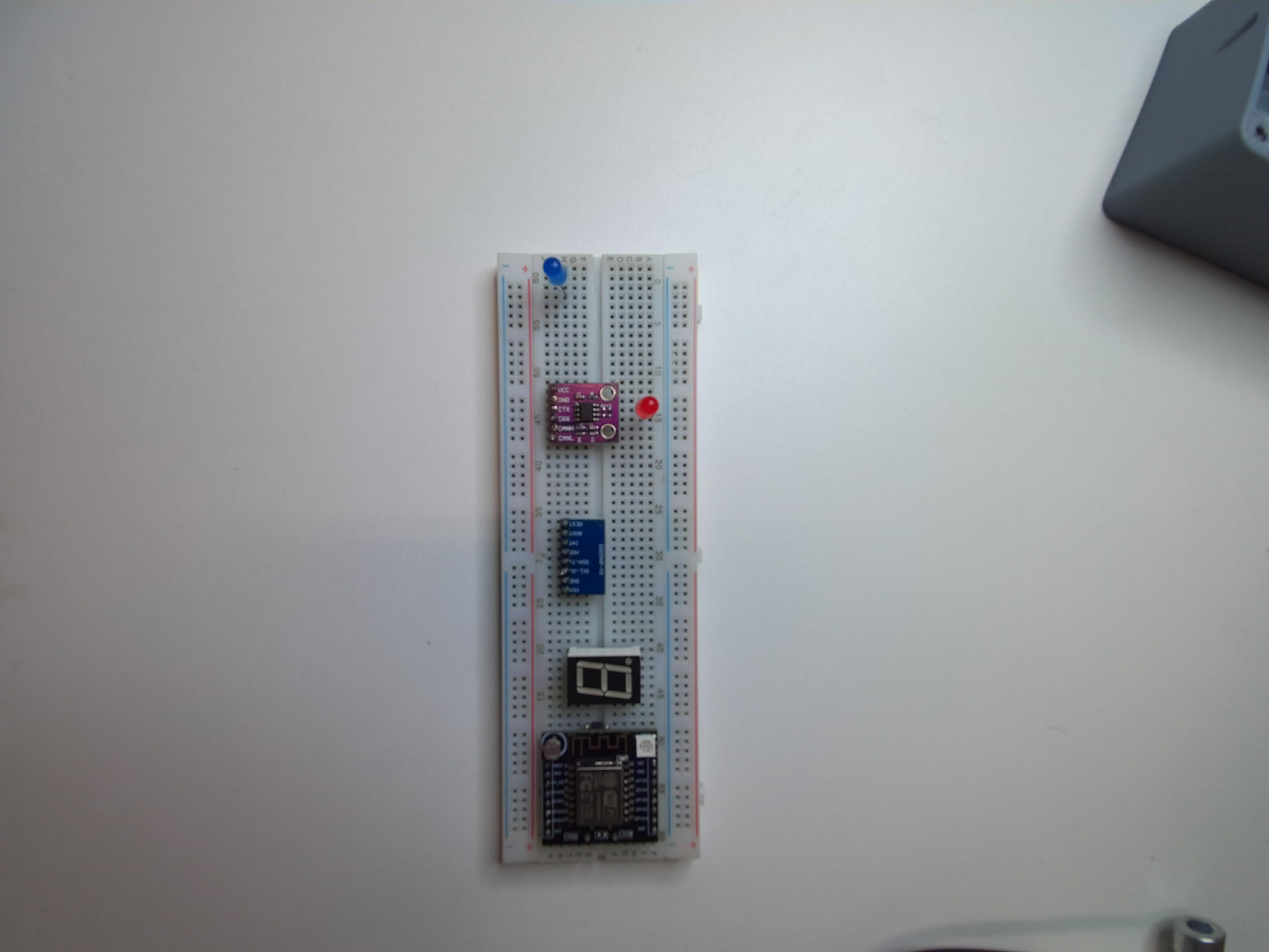base: (491, 248, 704, 873)
blue-board: (555, 513, 608, 600)
blue-led: (539, 253, 571, 292)
digit-board: (564, 642, 643, 707)
esp: (538, 729, 662, 853)
purple-board: (547, 379, 624, 450)
red-led: (632, 392, 659, 424)
